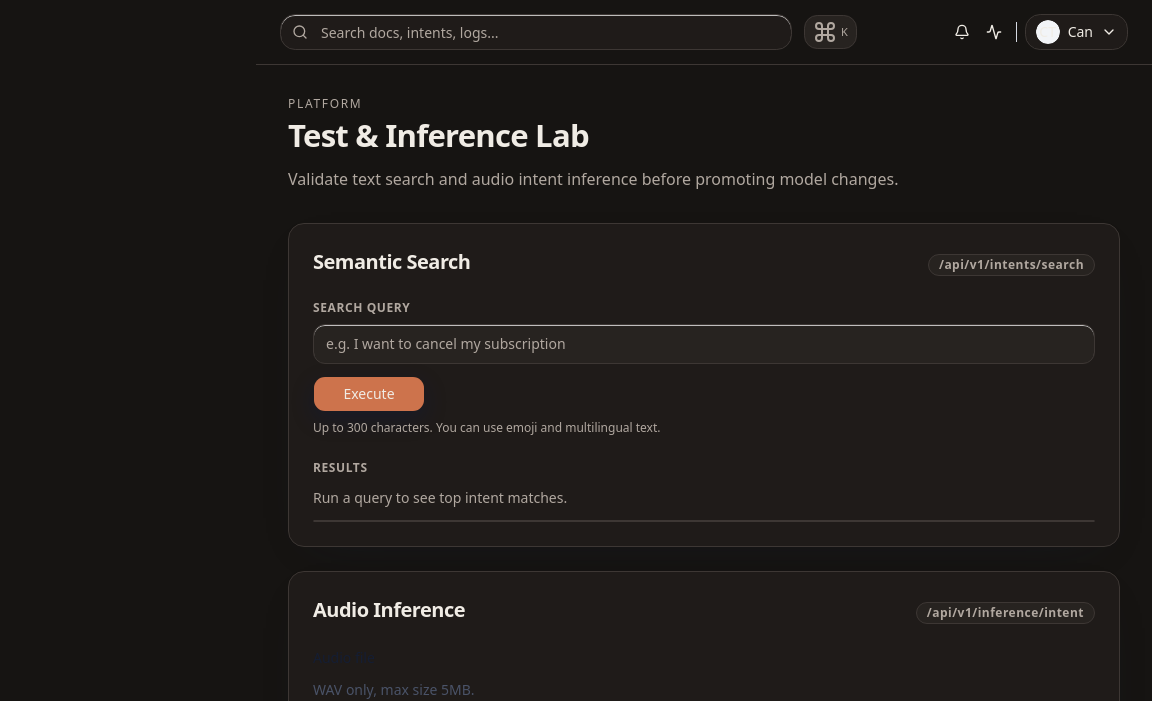
TestLabPage semantic search › submits query and renders returned intent scores
In the field with placeholder "e.g. I want to cancel my subscription": (704, 344) [313,324,1095,364], type "hesabimda ne kadar para var"
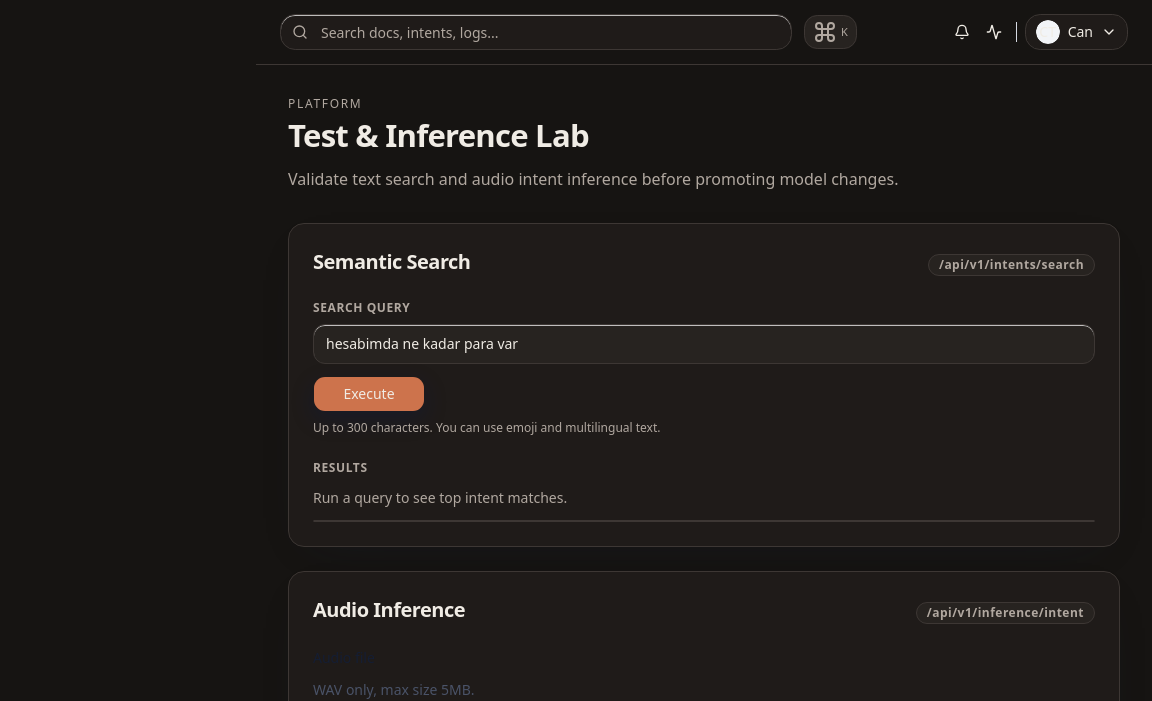
Click the button "Execute": (369, 394) [313,376,425,412]
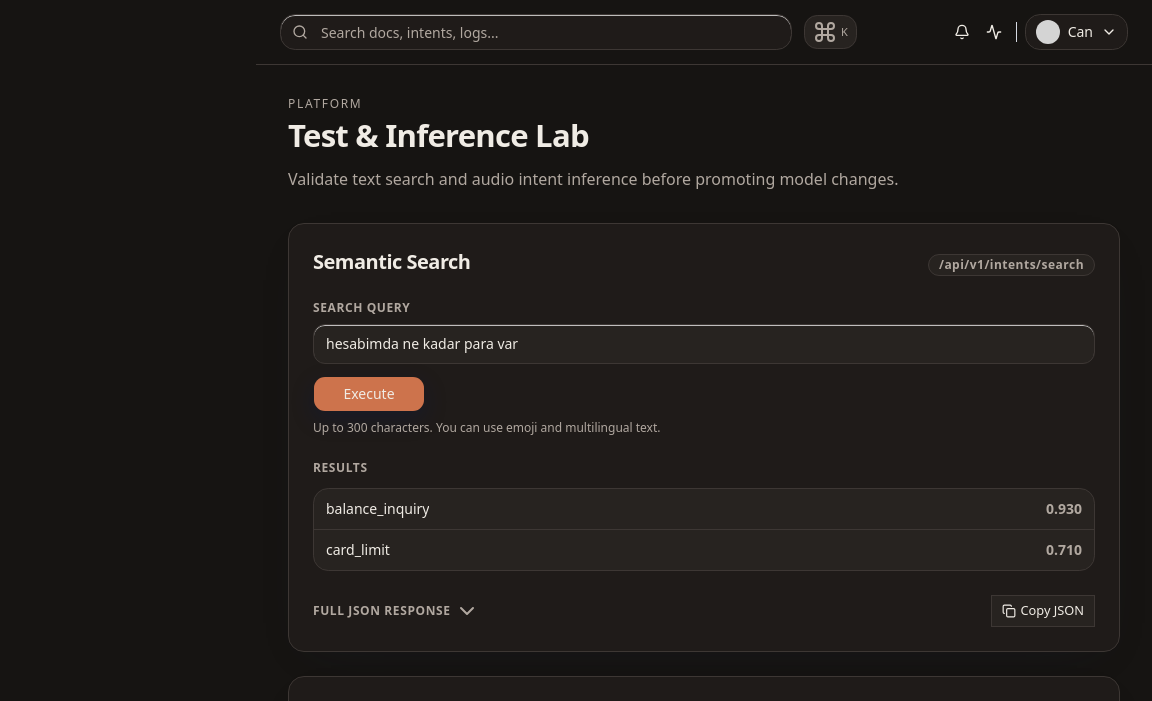
Check: the text "balance_inquiry" is shown, box [326,499,430,519]
Check: the text "card_limit" is shown, box [326,540,390,560]
Check: the button "Full JSON Response" is shown, box [313,599,479,623]
